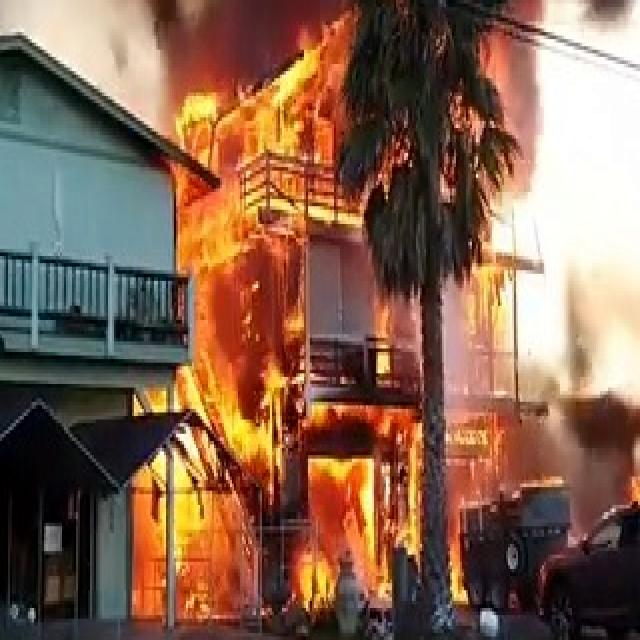fire: (170, 52, 319, 489)
